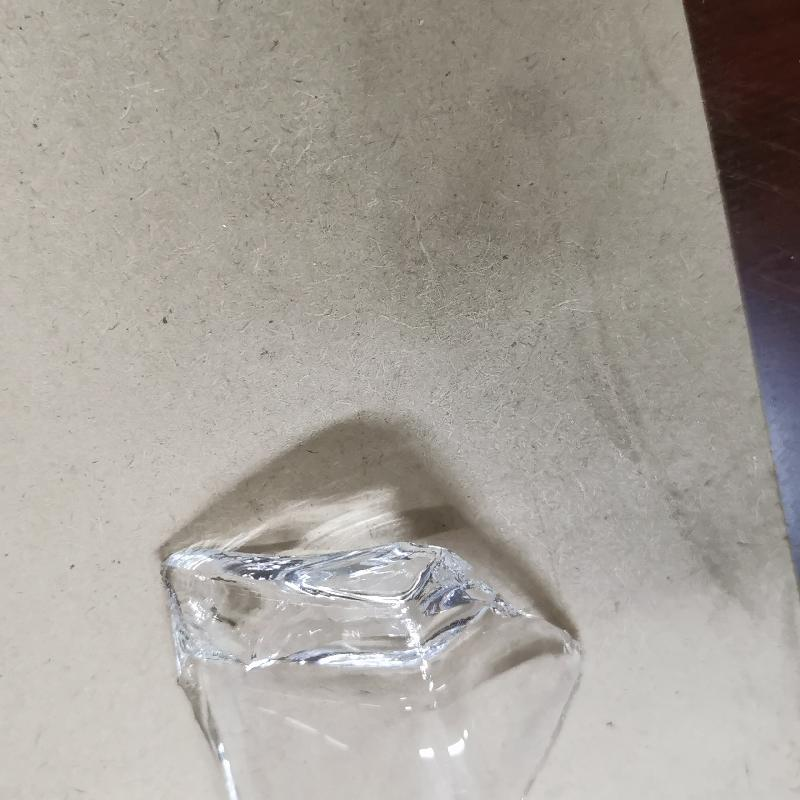glass: (155, 541, 585, 799)
